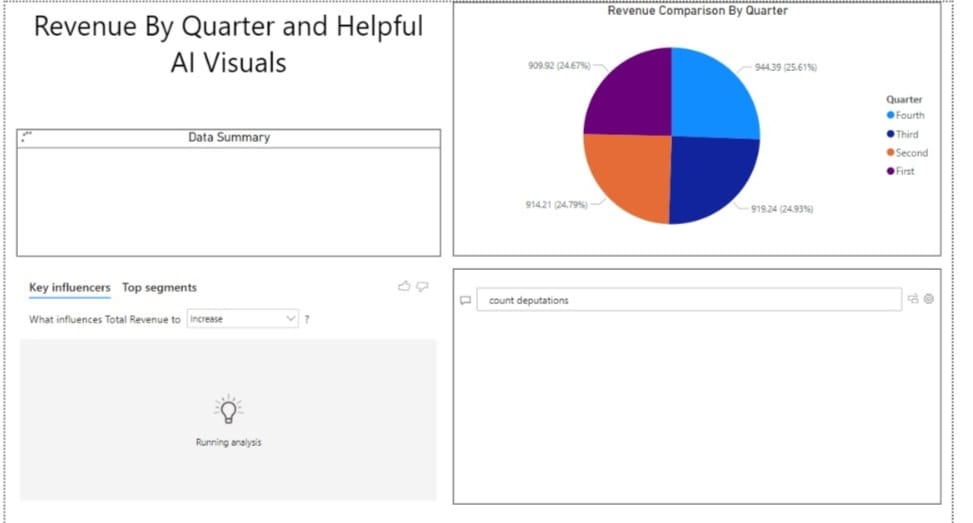

This screenshot's page, from the dashboard's own definition file:
{"tool":"powerbi","page":{"name":"AI Visuals","canvas":[1280,720],"ordinal":2},"visuals":[{"type":"pieChart","title":"Revenue Comparison By Quarter","fields":{"Y":["Avg(Sales Data.Total Revenue)"],"Category":["Transaction Data.Quarter"]},"box":[605,0,660,343.3],"z":0},{"type":"keyDriversVisual","fields":{"Target":["Sales Data.Total Revenue"],"ExplainBy":["Product Data.Product Name"]},"box":[15,360,573.3,318.3],"z":1},{"type":"textbox","title":"Data Summary","box":[15,171.7,573.3,171.7],"z":2},{"type":"qnaVisual","box":[605,360,660,318.3],"z":3},{"type":"textbox","box":[15,0,573.3,128.3],"z":4}]}

Visuals, with their boxes in screenshot pixels (x1, y1, x2, y2):
"Revenue Comparison By Quarter" pieChart: detection(451, 0, 940, 254)
keyDriversVisual - Sales Data.Total Revenue x Product Data.Product Name: detection(14, 267, 439, 503)
"Data Summary" textbox: detection(14, 127, 439, 255)
qnaVisual: detection(451, 267, 940, 503)
textbox: detection(14, 0, 439, 95)
